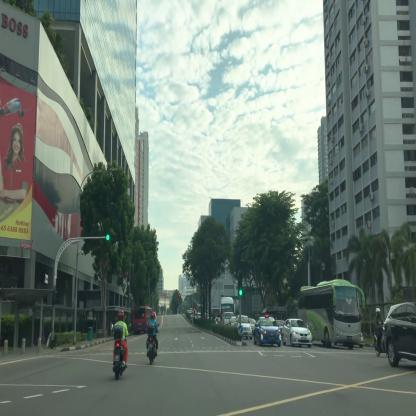green_traffic_light: (237, 274, 243, 296), (106, 234, 116, 242)
